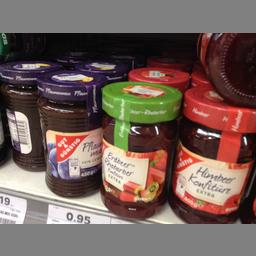jam: (98, 78, 183, 220), (168, 86, 254, 223), (34, 70, 103, 196), (0, 60, 61, 170)
